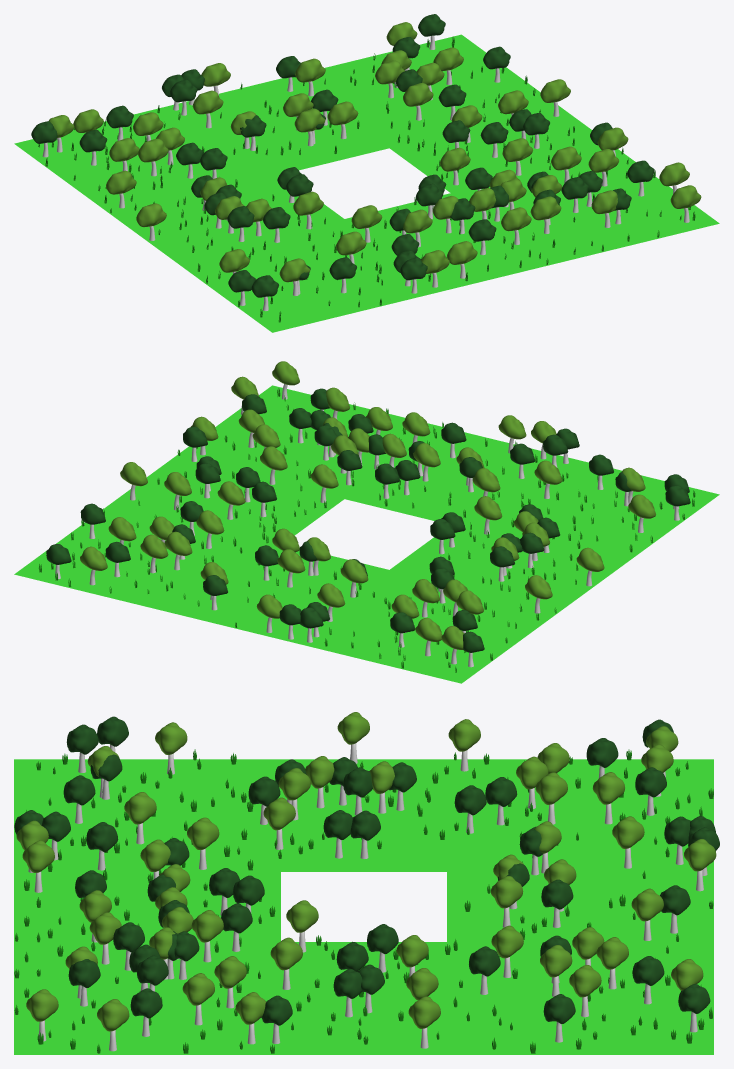
Rendered from Field.fbx.
3 renders of one model, top to bottom at view 1: azimuth 30°, elevation 25°; view 2: azimuth 150°, elevation 25°; view 3: azimuth 270°, elevation 25°, orthographic. The views are drawn at different scales.
Visible parts, largest first — view 1: Plane, Plane|Tree_1|Dupli|108.1, Plane|Tree_1|Dupli|60.1, Plane|Tree_1|Dupli|16.1, Plane|Tree_1|Dupli|52.1, Plane|Tree_1|Dupli|92.1, Plane|Tree_1|Dupli|106.1, Plane|Tree_1|Dupli|96.1, Plane|Tree_1|Dupli|14.1, Plane|Tree_1|Dupli|26.1, Plane|Tree_1|Dupli|88.1, Tree_1.007 (+15 smaller); view 2: Plane, Plane|Tree_1|Dupli|24.1, Plane|Tree_1|Dupli|94.1, Plane|Tree_1|Dupli|72.1, Plane|Tree_1|Dupli|74.1, Plane|Tree_1|Dupli|64.1; view 3: Plane, Plane|Tree_1|Dupli|64.1, Plane|Tree_1|Dupli|70.1, Plane|Tree_1|Dupli|32.1, Plane|Tree_2|Dupli|23.1, Plane|Tree_2|Dupli|99.1, Tree_2.035, Plane|Tree_1|Dupli|92.1, Plane|Tree_2|Dupli|101.1, Tree_1.038, Tree_1.039, Tree_2.033 (+77 smaller).
Part boxes in pixels (x1,y1,x2,y2): Plane: (14, 34, 719, 332); Plane|Tree_1|Dupli|108.1: (293, 191, 323, 229); Plane|Tree_1|Dupli|60.1: (136, 203, 166, 240); Plane|Tree_1|Dupli|16.1: (351, 205, 382, 242); Plane|Tree_1|Dupli|52.1: (106, 172, 136, 208); Plane|Tree_1|Dupli|92.1: (447, 241, 477, 278); Plane|Tree_1|Dupli|106.1: (279, 258, 310, 295); Plane|Tree_1|Dupli|96.1: (501, 207, 531, 244); Plane|Tree_1|Dupli|14.1: (336, 231, 366, 263); Plane|Tree_1|Dupli|26.1: (138, 140, 168, 176); Plane|Tree_1|Dupli|88.1: (403, 209, 432, 247); Tree_1.007: (551, 147, 581, 183); Plane: (14, 385, 719, 683); Plane|Tree_1|Dupli|24.1: (311, 464, 338, 502); Plane|Tree_1|Dupli|94.1: (272, 361, 299, 399); Plane|Tree_1|Dupli|72.1: (120, 462, 147, 500); Plane|Tree_1|Dupli|74.1: (164, 472, 191, 510); Plane|Tree_1|Dupli|64.1: (260, 446, 287, 484); Plane: (14, 759, 713, 1054); Plane|Tree_1|Dupli|64.1: (270, 937, 302, 989); Plane|Tree_1|Dupli|70.1: (183, 973, 214, 1025); Plane|Tree_1|Dupli|32.1: (191, 910, 223, 962); Plane|Tree_2|Dupli|23.1: (130, 988, 162, 1036); Plane|Tree_2|Dupli|99.1: (68, 959, 100, 1006); Tree_2.035: (632, 956, 664, 1004); Plane|Tree_1|Dupli|92.1: (22, 840, 54, 892); Plane|Tree_2|Dupli|101.1: (86, 822, 117, 870); Tree_1.038: (684, 839, 716, 891); Tree_1.039: (612, 816, 644, 868); Tree_2.033: (541, 879, 573, 927).
Size of the model in its own units: 618 by 45.42 by 605.
